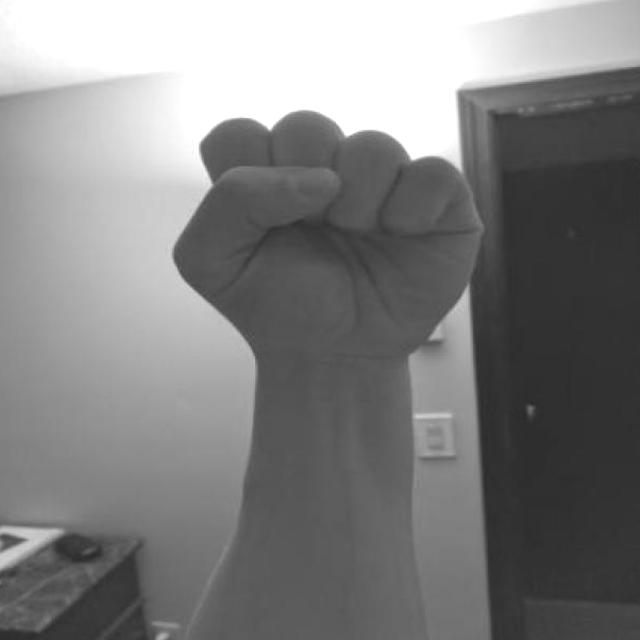S: (158, 92, 504, 427)
